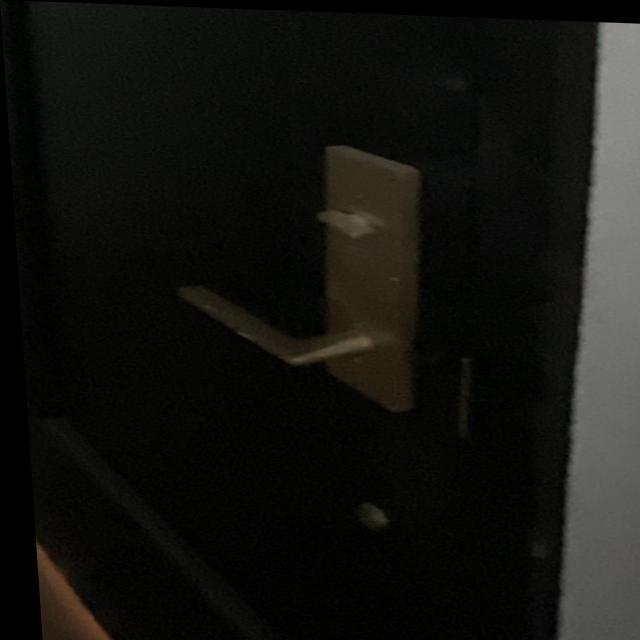door_handle: (156, 266, 425, 383)
